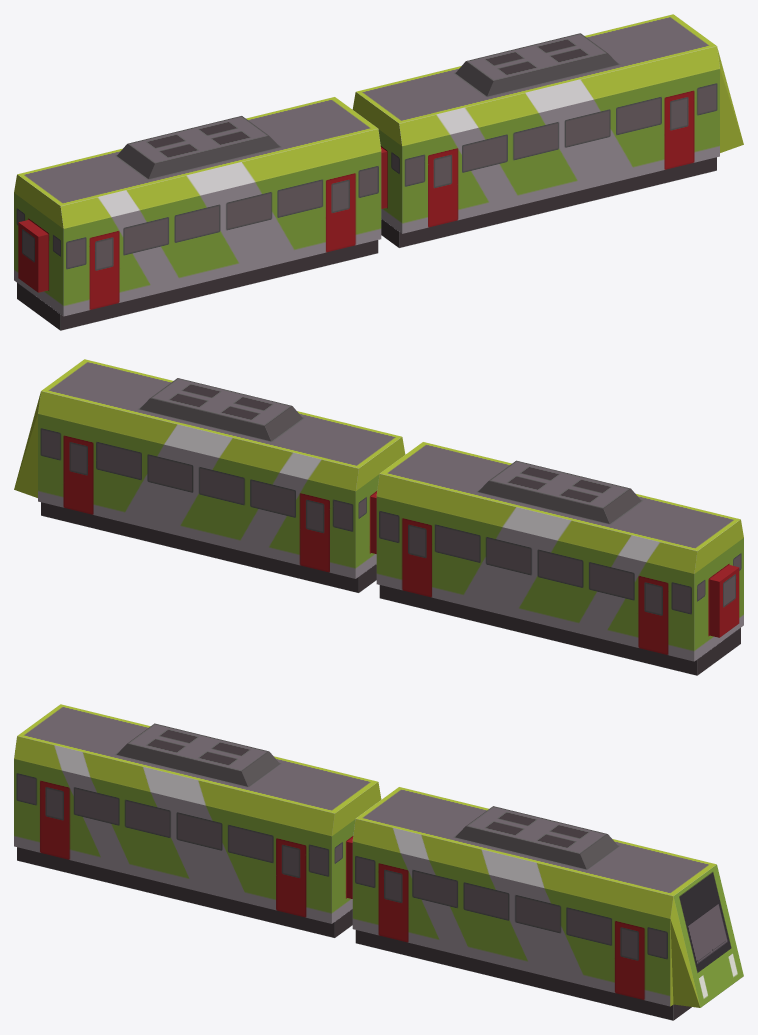
File: Trains.fbx
3 views of the same model, one above another, from view 1: azimuth 30°, elevation 25°; view 2: azimuth 150°, elevation 25°; view 3: azimuth 330°, elevation 25° (orthographic).
Parts seen in each view (by area): view 1: polySurface15, polySurface25; view 2: polySurface15, polySurface25; view 3: polySurface25, polySurface15.
Part boxes in pixels (left/top/right/bottom): polySurface15: left=14, top=97, right=381, bottom=330; polySurface25: left=352, top=14, right=743, bottom=247; polySurface15: left=376, top=442, right=743, bottom=675; polySurface25: left=14, top=359, right=405, bottom=592; polySurface25: left=352, top=787, right=743, bottom=1020; polySurface15: left=14, top=704, right=381, bottom=937.
Bounding box in the file's own units: 20 × 3.75 × 2.48.
